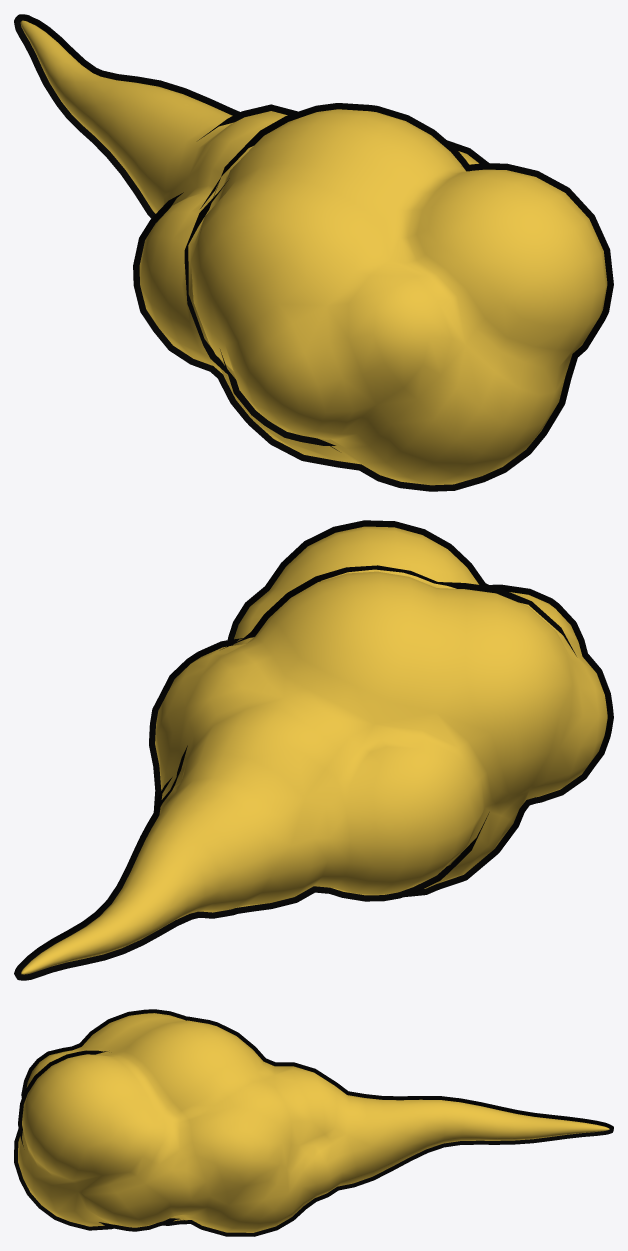
Rendered from nimbus.glb.
3 renders of one model, top to bottom at view 1: azimuth 30°, elevation 25°; view 2: azimuth 150°, elevation 25°; view 3: azimuth 270°, elevation 25°, orthographic. The views are drawn at different scales.
Parts seen in each view (by area): view 1: Cloud Core, Cloud Shell; view 2: Cloud Core, Cloud Shell; view 3: Cloud Core, Cloud Shell.
Part boxes in pixels (x1,y1,x2,y2): Cloud Core: [20, 20, 607, 485]; Cloud Shell: [14, 14, 613, 491]; Cloud Core: [21, 526, 607, 974]; Cloud Shell: [14, 520, 613, 980]; Cloud Core: [18, 1013, 609, 1232]; Cloud Shell: [14, 1009, 613, 1236].
Bounding box in the file's own units: 0.6571 × 0.5586 × 1.53.
